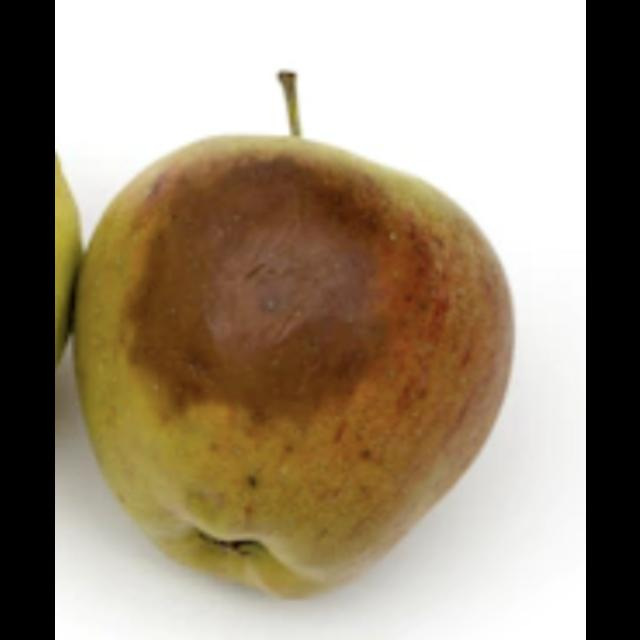Apel Tidak Segar: (60, 129, 518, 605)
